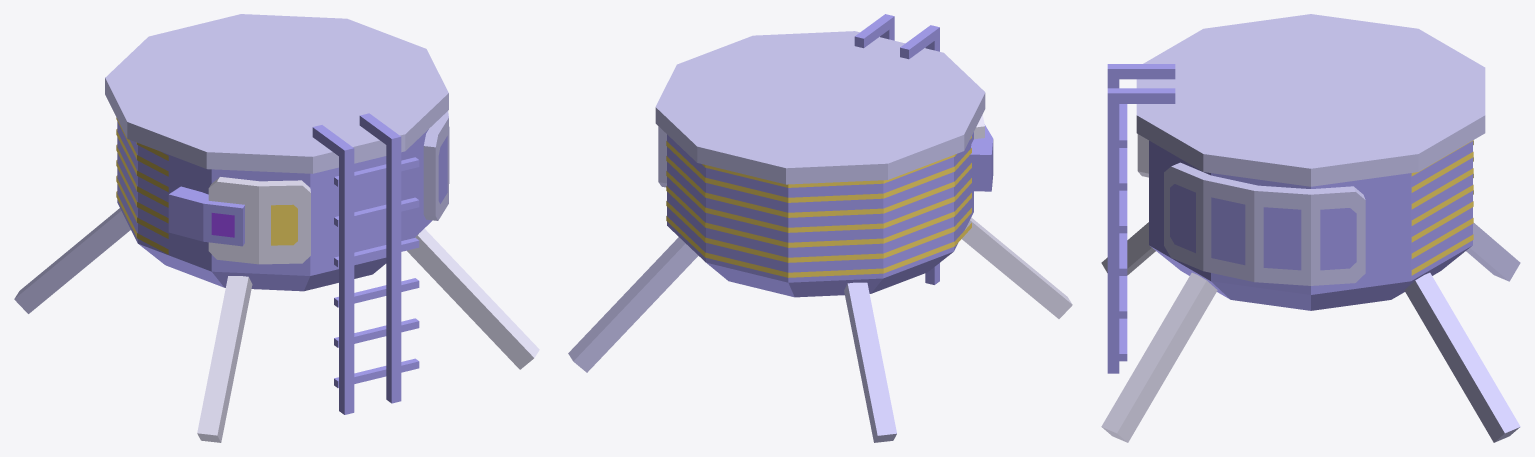
Rendered from Building_018_b.fbx.
3 renders of one model, left to right at view 1: azimuth 30°, elevation 25°; view 2: azimuth 150°, elevation 25°; view 3: azimuth 270°, elevation 25°, orthographic. The views are drawn at different scales.
Parts seen in each view (by area): view 1: Building_018_b; view 2: Building_018_b; view 3: Building_018_b.
Boxes of the visible parts, box(x1,y1,x2,y2) form: Building_018_b: box(14, 14, 539, 442); Building_018_b: box(568, 14, 1072, 442); Building_018_b: box(1101, 14, 1520, 442).
Bounding box in the file's own units: 8.55 × 6.31 × 8.55.
